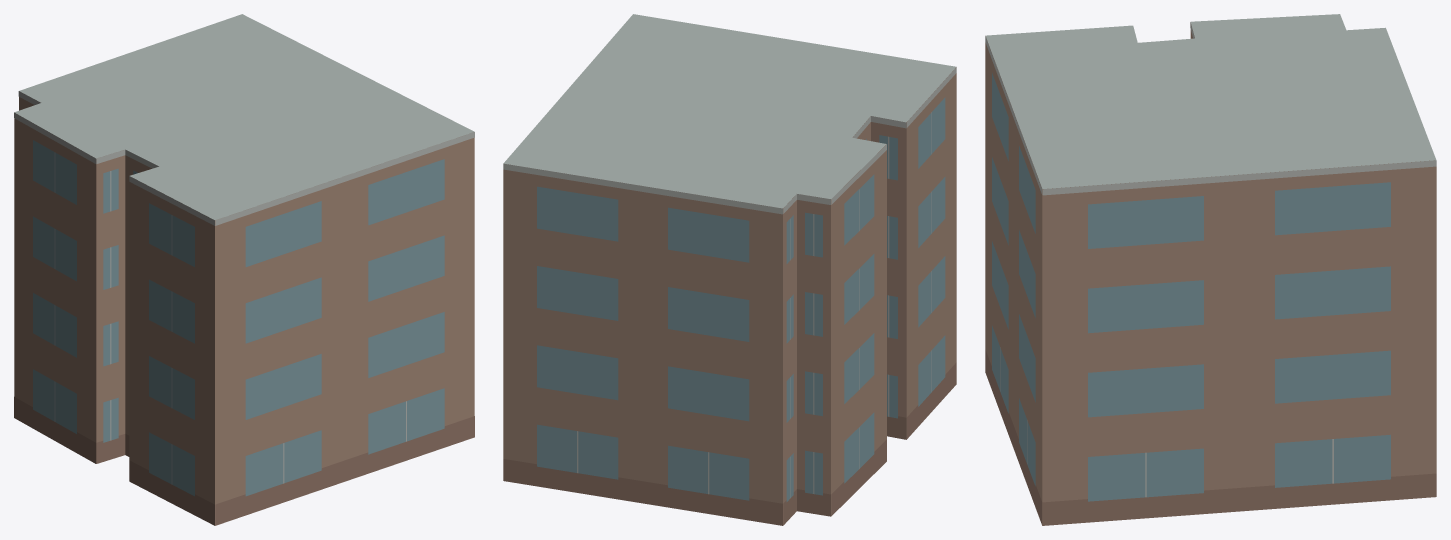
The model's file is survey-upis-32744293.glb.
3 renders of one model, left to right at view 1: azimuth 30°, elevation 25°; view 2: azimuth 150°, elevation 25°; view 3: azimuth 270°, elevation 25°, orthographic. The views are drawn at different scales.
Parts seen in each view (by area): view 1: survey-upis-32744293.tmp; view 2: survey-upis-32744293.tmp; view 3: survey-upis-32744293.tmp.
Part boxes in pixels (<box>): survey-upis-32744293.tmp: <box>14,14,474,525</box>; survey-upis-32744293.tmp: <box>503,14,956,525</box>; survey-upis-32744293.tmp: <box>985,14,1436,525</box>.
Bounding box in the file's own units: 14.51 × 13 × 15.79.
